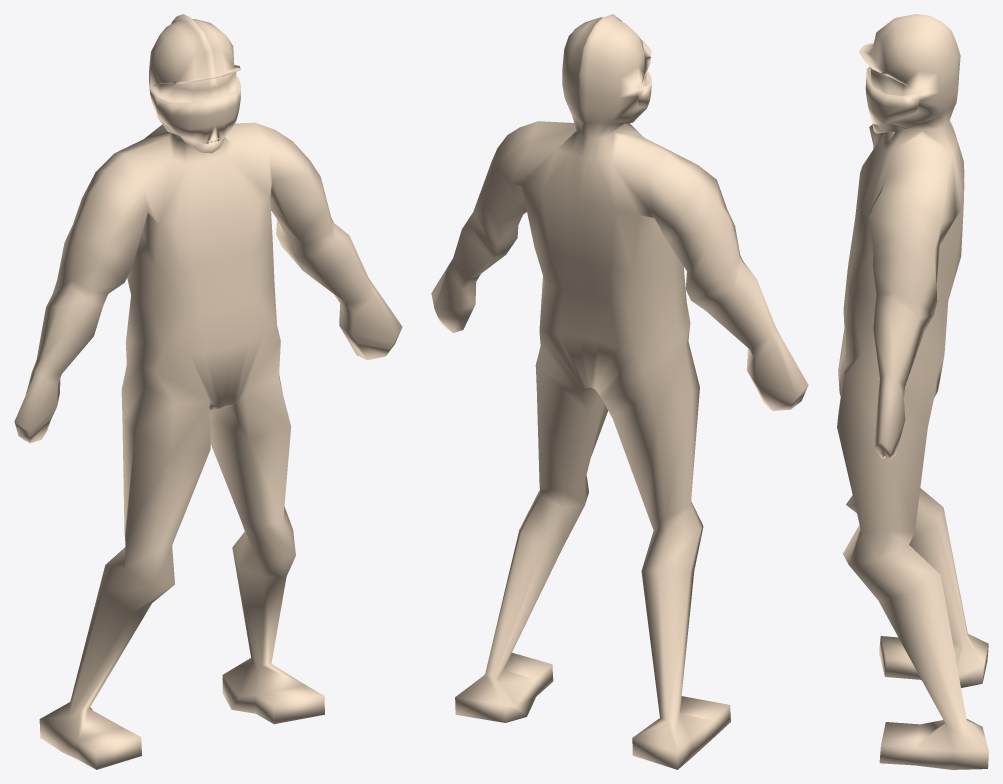
The model's file is character-knight-IKbone-03.fbx.
3 views of the same model, side by side, from view 1: azimuth 30°, elevation 25°; view 2: azimuth 150°, elevation 25°; view 3: azimuth 270°, elevation 25° (orthographic). The views are drawn at different scales.
Parts seen in each view (by area): view 1: bodyMesh; view 2: bodyMesh; view 3: bodyMesh.
Part boxes in pixels (x1,y1,x2,y2): bodyMesh: (14,14,402,769); bodyMesh: (431,14,808,769); bodyMesh: (837,14,988,769).
Bounding box in the file's own units: 1.21 × 2.14 × 0.4197.
